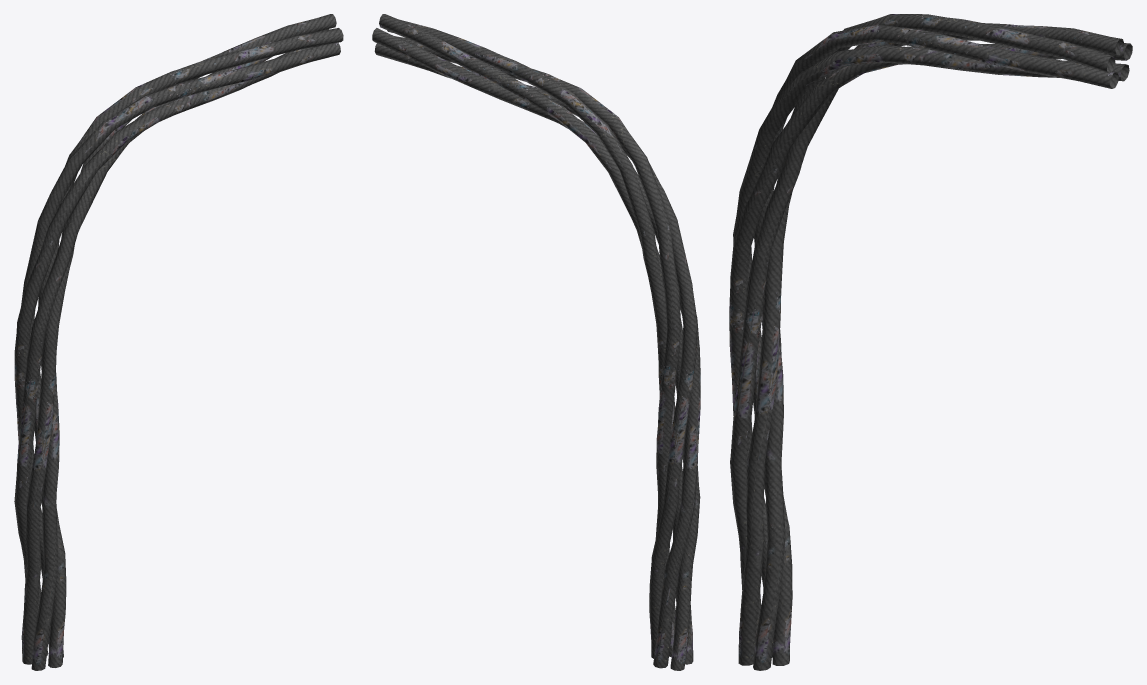
Rendered from cable__lower.glb.
3 views of the same model, side by side, from view 1: azimuth 30°, elevation 25°; view 2: azimuth 150°, elevation 25°; view 3: azimuth 330°, elevation 25° (orthographic). The views are drawn at different scales.
Visible parts, largest first — view 1: sweep2; view 2: sweep2; view 3: sweep2.
Boxes of the visible parts, bbox=[...] form: sweep2: bbox=[14, 14, 343, 670]; sweep2: bbox=[372, 14, 700, 670]; sweep2: bbox=[729, 14, 1132, 670].
Size of the model in its own units: 0.8047 by 1.41 by 0.098.
1 material, 1 textured.
